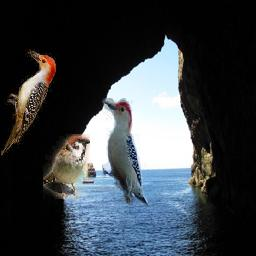Sparrow: (44, 135, 91, 200)
Woodpecker: (2, 50, 57, 157), (102, 99, 148, 208)
